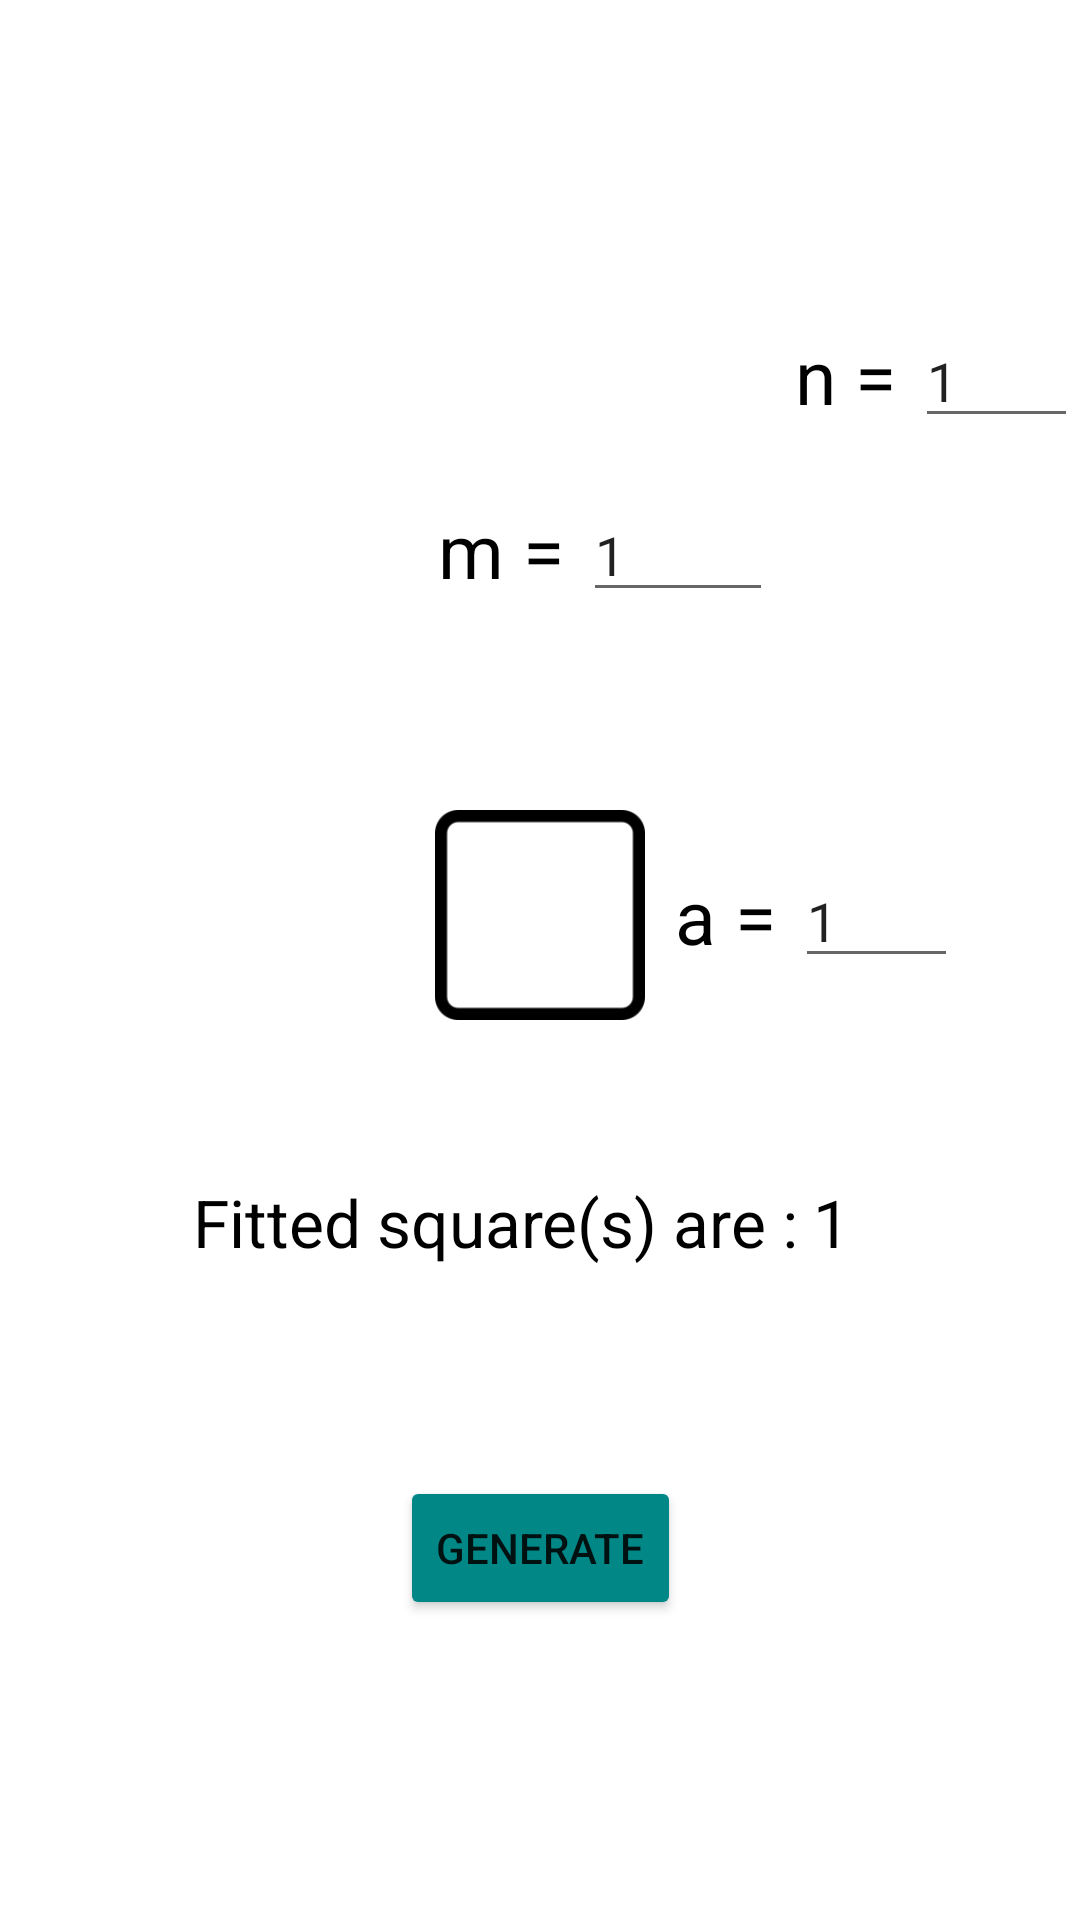

Point at icon controls on the screen. Image size 1080w x 1920h, points as point (x, y).
square: point (540, 915)
